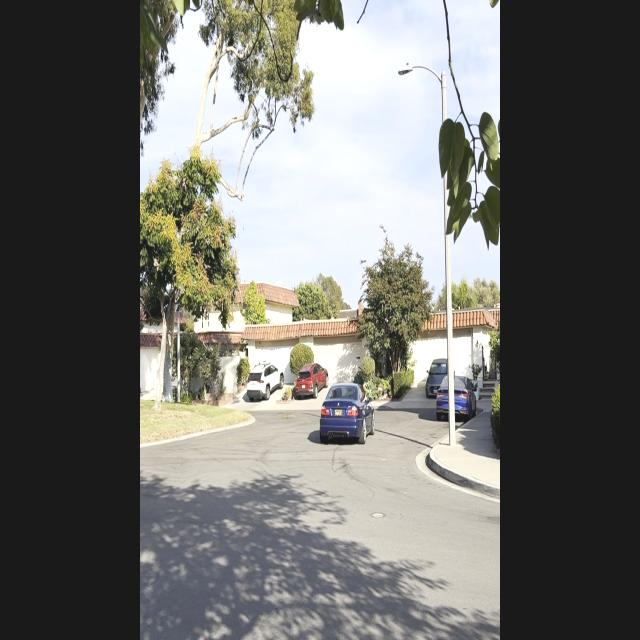Carbeetle: (309, 372, 378, 457)
Civilian: (436, 375, 475, 421), (246, 362, 285, 401), (292, 364, 324, 399), (426, 362, 445, 398)
